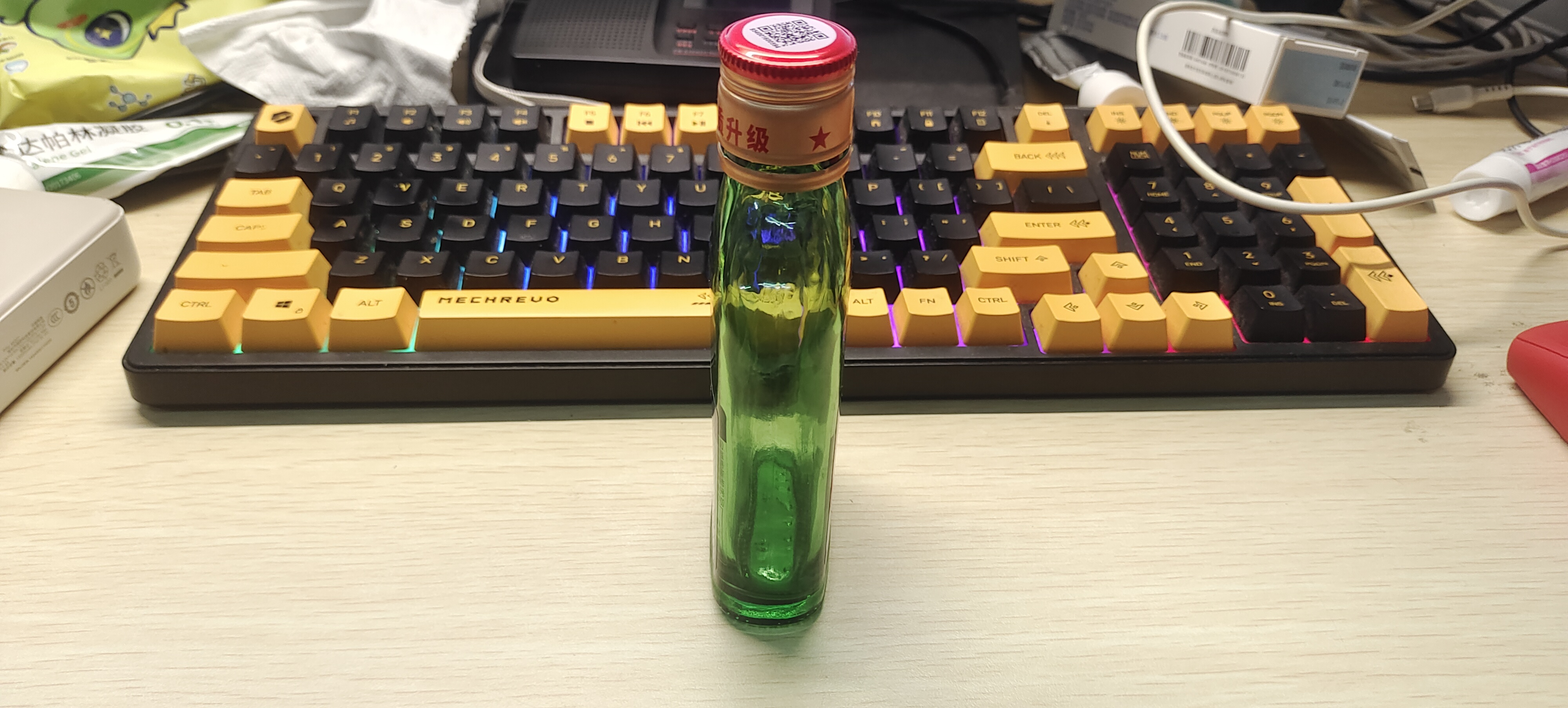redbull: (612, 26, 995, 701)
